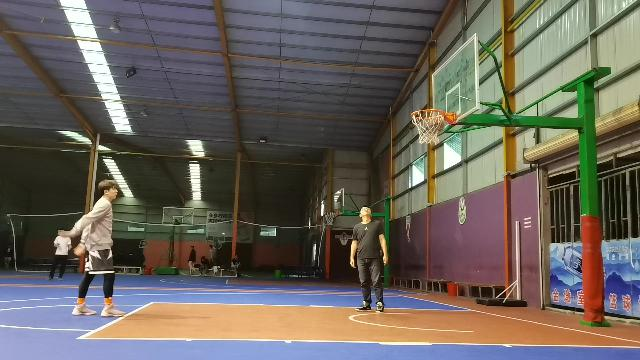basket: (411, 109, 445, 145), (324, 209, 336, 224)
goal: (427, 118, 443, 133)
